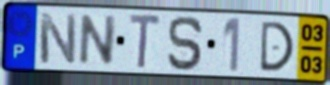1: (219, 16, 241, 75)
D: (258, 20, 296, 74)
N: (76, 13, 119, 67), (37, 11, 79, 66)
S: (166, 14, 205, 73)
T: (128, 12, 164, 72)
